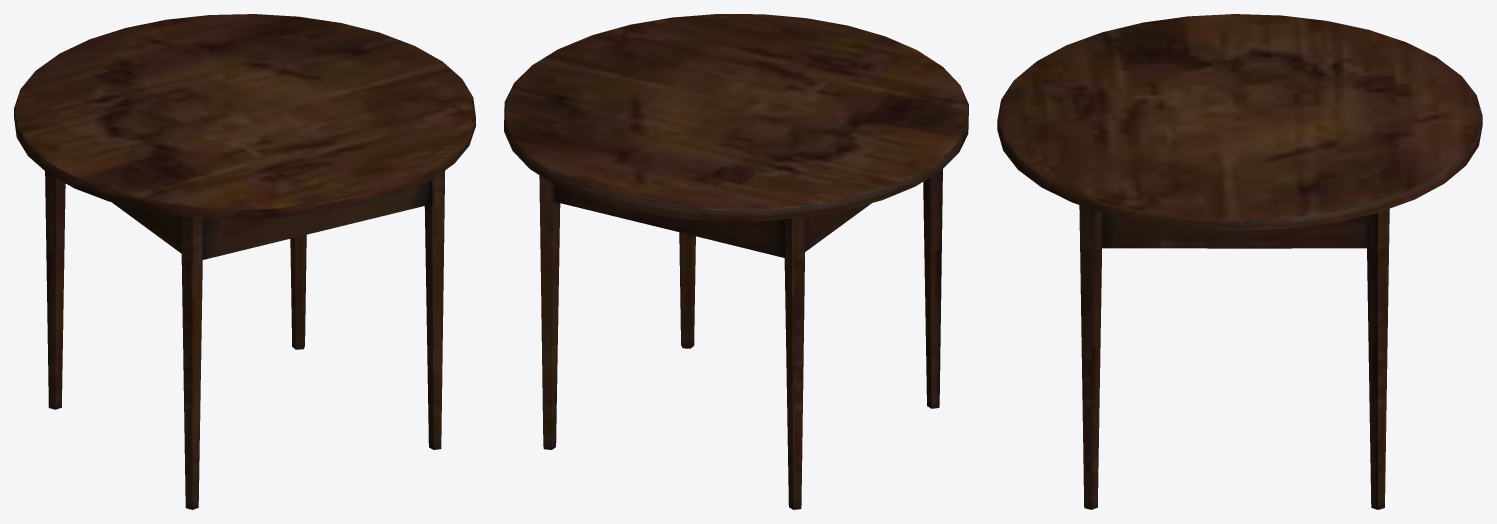
Rendered from furnituretable001a.glb.
The picture shows the model from 3 angles, left to right: view 1: azimuth 30°, elevation 25°; view 2: azimuth 150°, elevation 25°; view 3: azimuth 270°, elevation 25°; orthographic projection. The views are drawn at different scales.
Visible parts, largest first — view 1: 0_FurnitureTable001a; view 2: 0_FurnitureTable001a; view 3: 0_FurnitureTable001a.
Part boxes in pixels (x1,y1,x2,y2): 0_FurnitureTable001a: (14, 14, 475, 509); 0_FurnitureTable001a: (504, 14, 968, 509); 0_FurnitureTable001a: (997, 14, 1482, 509).
Bounding box in the file's own units: 1.23 × 0.9225 × 1.23.
Materials: 1 (1 with a texture image).
